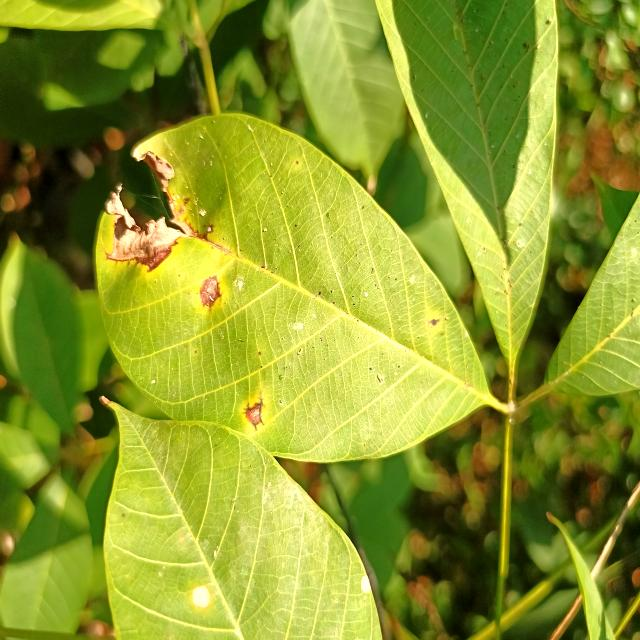Colletotrichum: (431, 319, 437, 326)
Corynespora: (188, 224, 231, 253)
Leaf-Blight: (105, 146, 199, 259), (192, 585, 210, 609)
